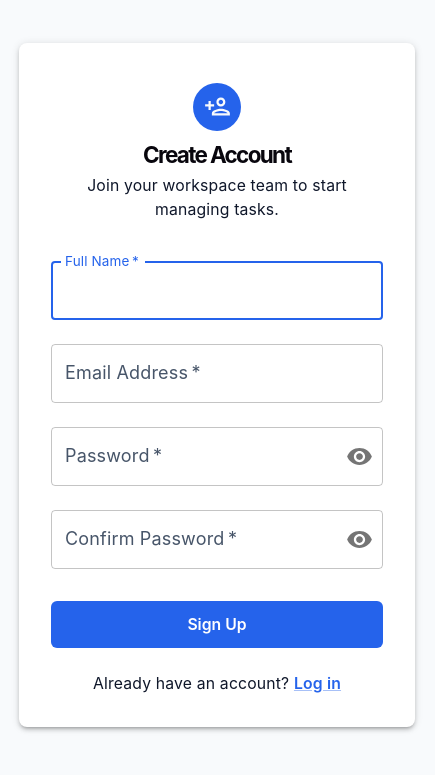
RegisterPage Component › validates password length constraint
In the field labelled "Full Name *": (217, 291) 51,261 -> 383,320, type "Jane Doe"
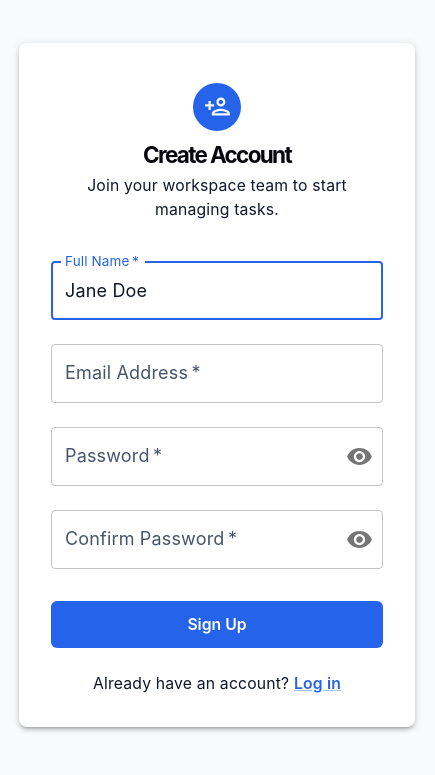
In the field labelled "Email Address *": (217, 374) 51,344 -> 383,403, type "jane@example.com"
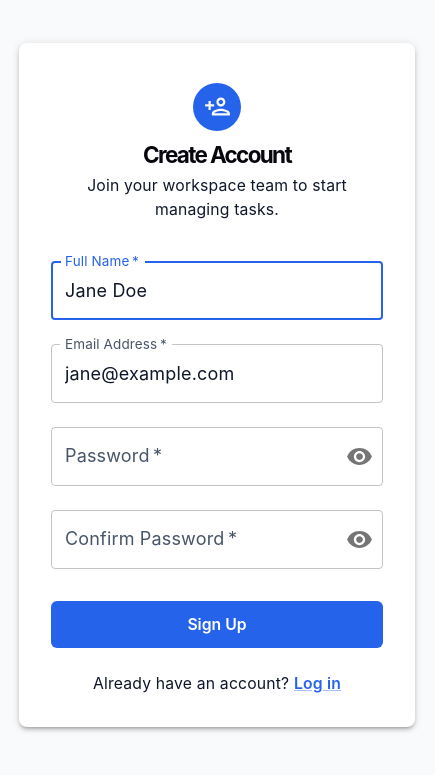
In the password field labelled "Password *": (190, 457) 51,427 -> 330,486, type "12345"
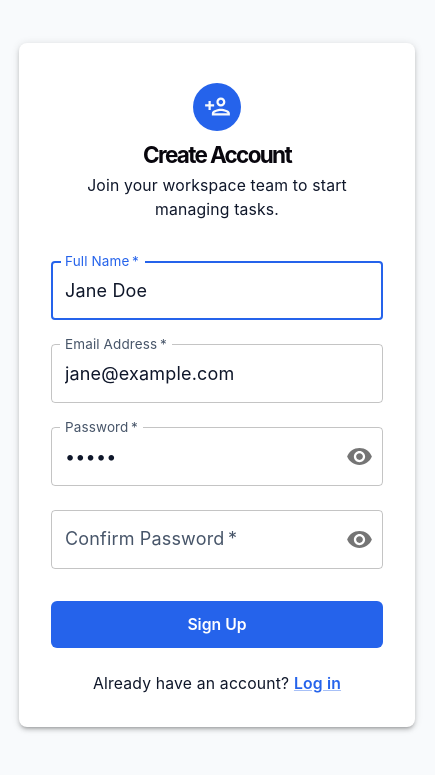
Click the button "Sign Up": (217, 624) 51,601 -> 383,648
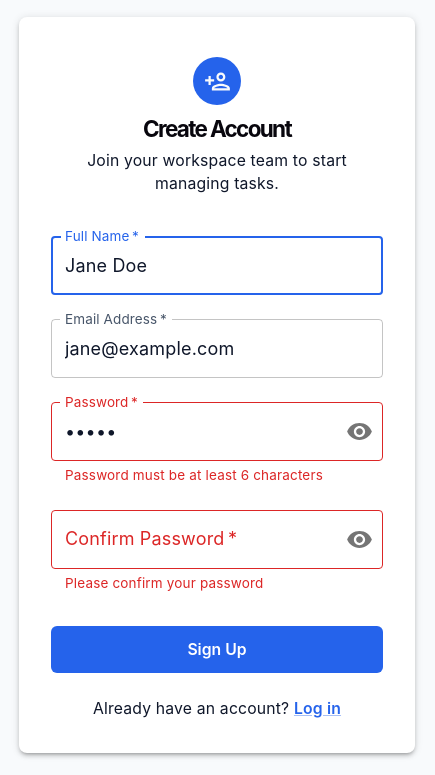
Now the text "Password must be at least 6 characters" is shown, box 65,467 -> 323,483
